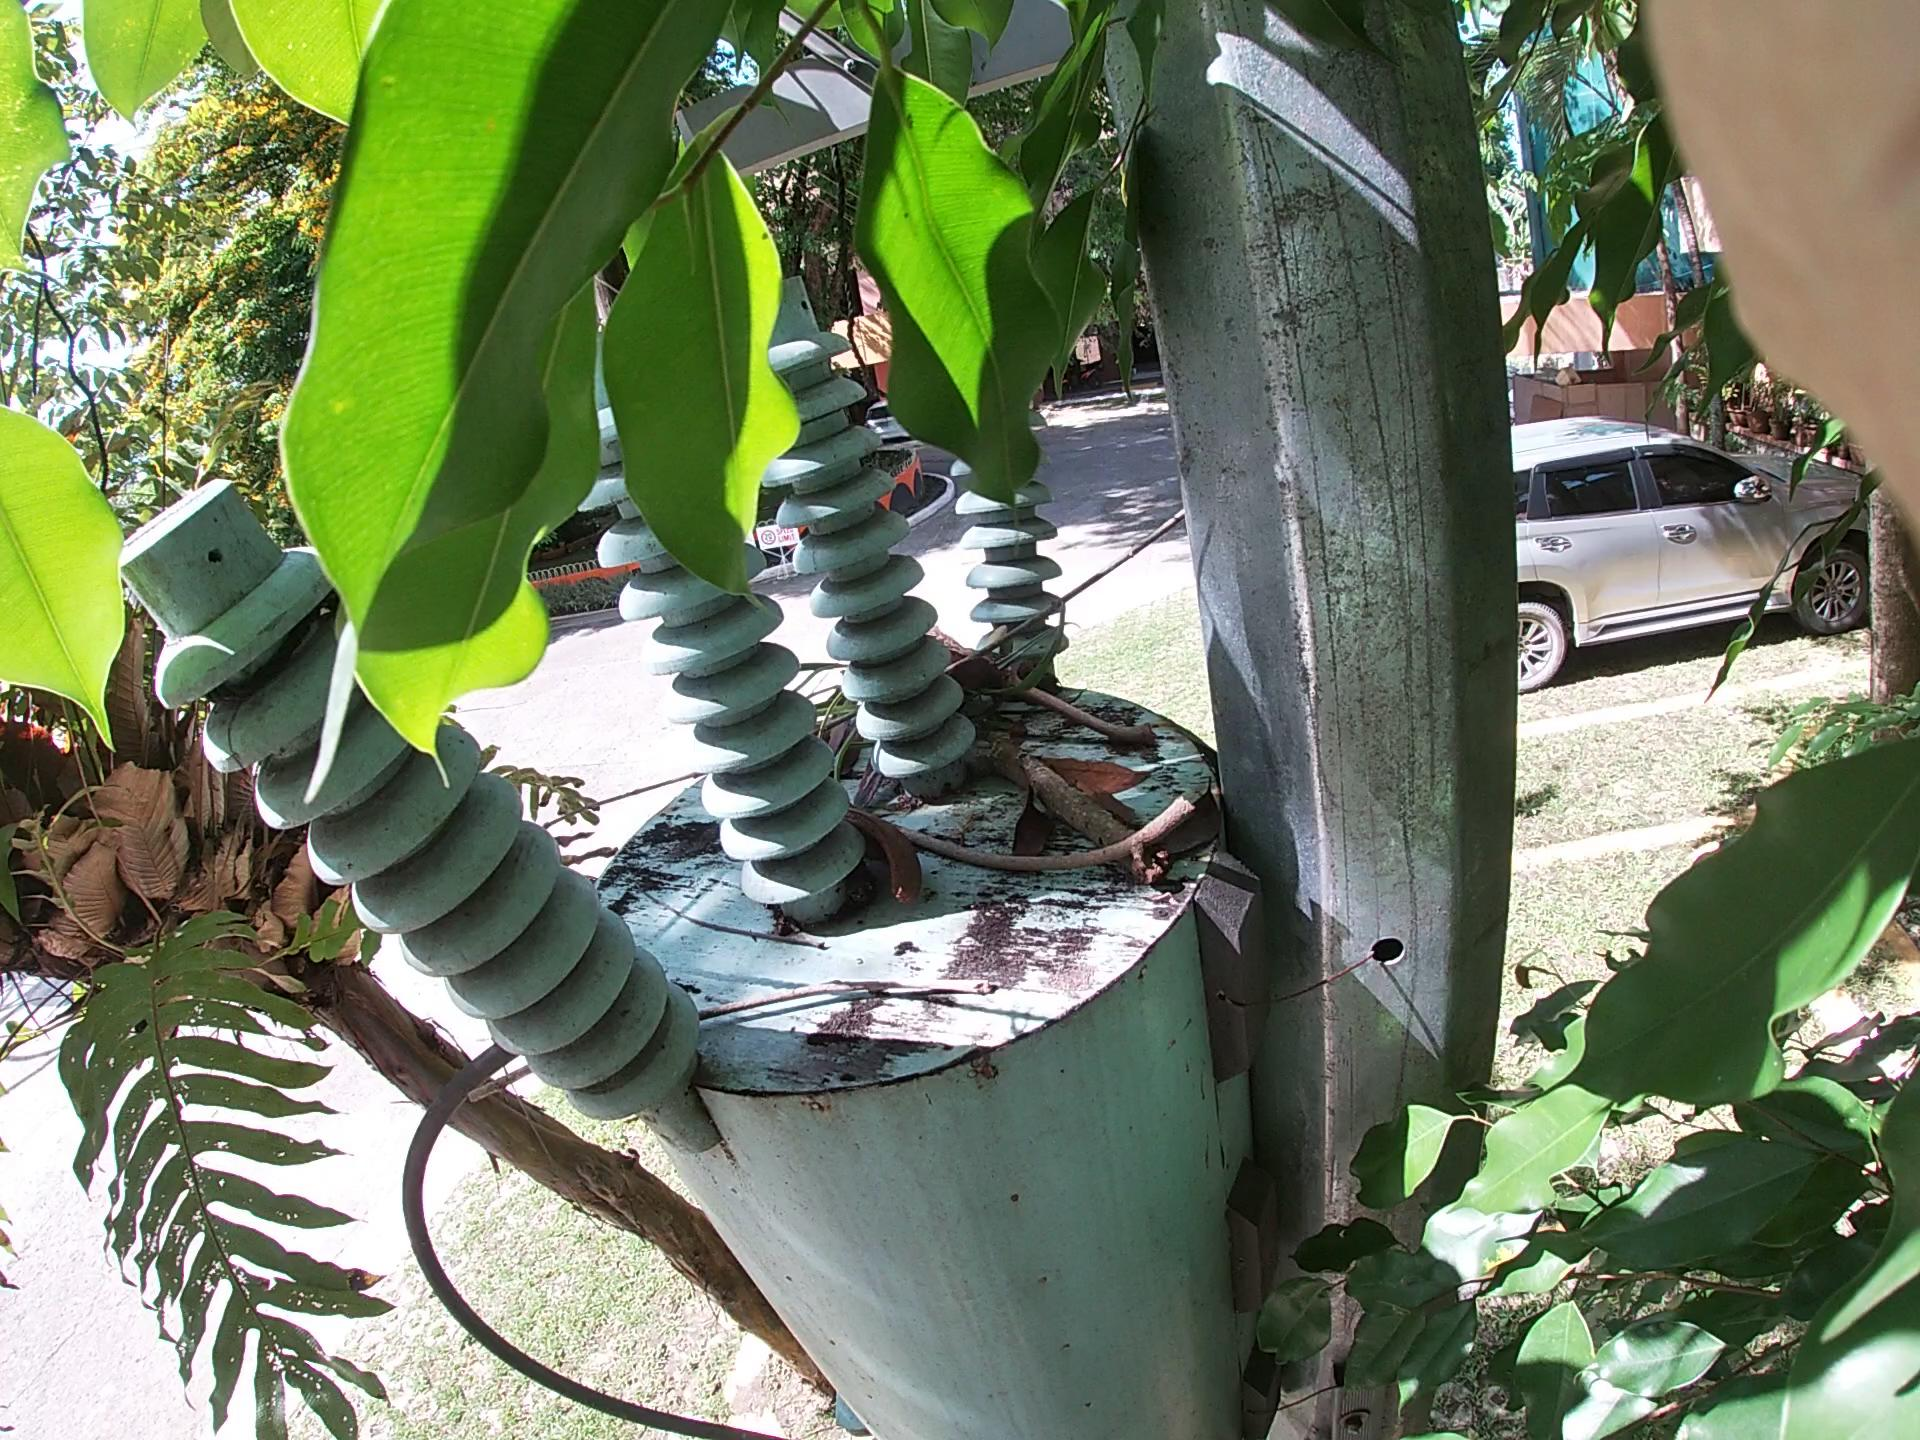branch with leaves: (903, 617, 1290, 1047)
leaf: (1028, 753, 1150, 914)
tree branch: (540, 945, 1043, 1097), (910, 576, 1265, 790), (821, 791, 1234, 882), (977, 663, 1234, 790)
